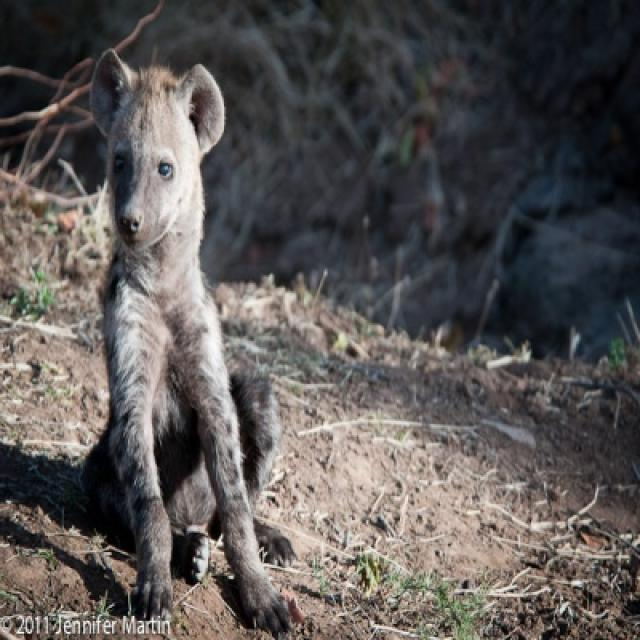hyena: (83, 50, 298, 635)
